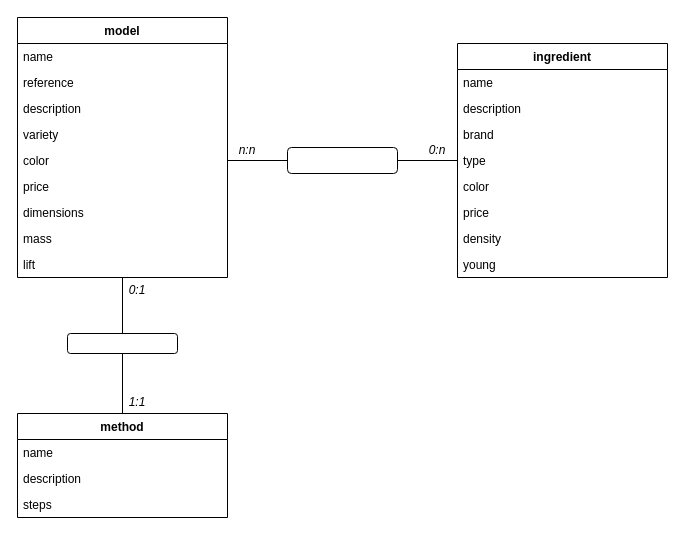
The diagram is 685 pixels wide and 538 high, and some of its shapes have lost their labels. The shapes that lost their labels are listed below. From the top down, each one's centre as x and y in pixels, then its label:
At point 342,160: "needs".
At point 122,343: "creates".
